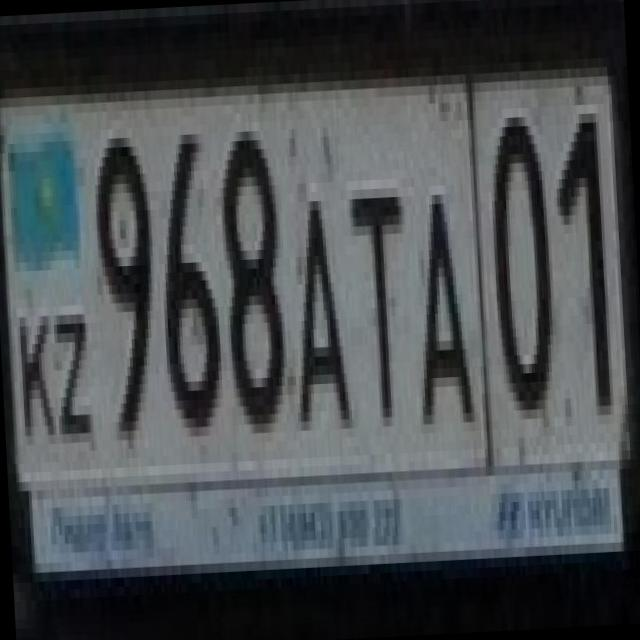0: (474, 98, 560, 402)
1: (544, 94, 620, 408)
6: (142, 106, 228, 429)
8: (199, 103, 289, 417)
9: (77, 110, 163, 442)
A: (402, 175, 478, 425), (277, 172, 350, 422)
T: (342, 169, 415, 428)
Z: (46, 296, 96, 434)
